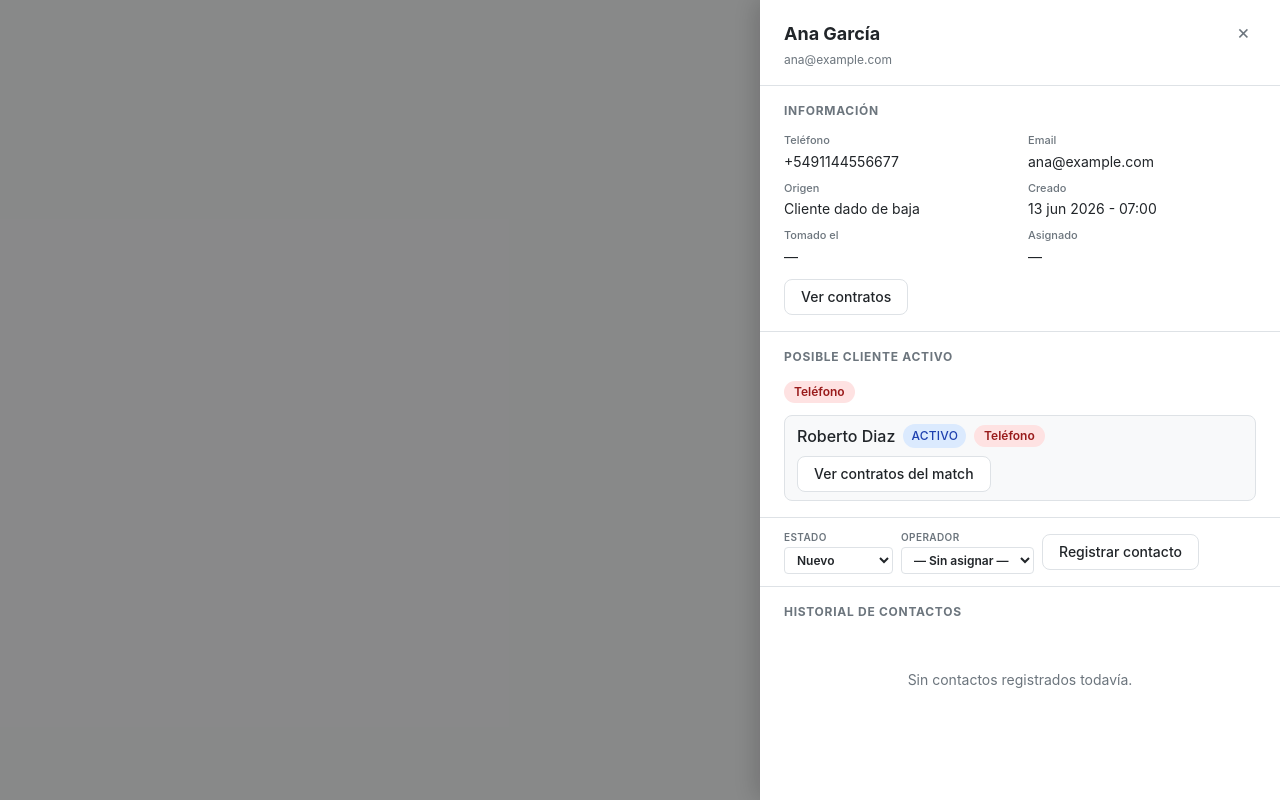
Test case: LeadDetailDrawer — possible active match section (S13a/S13b) › MS6 — the lead's own "Ver contratos" button is unaffected by an active match section
Click the button "Ver contratos" at (846, 296), box [784,278,908,314]
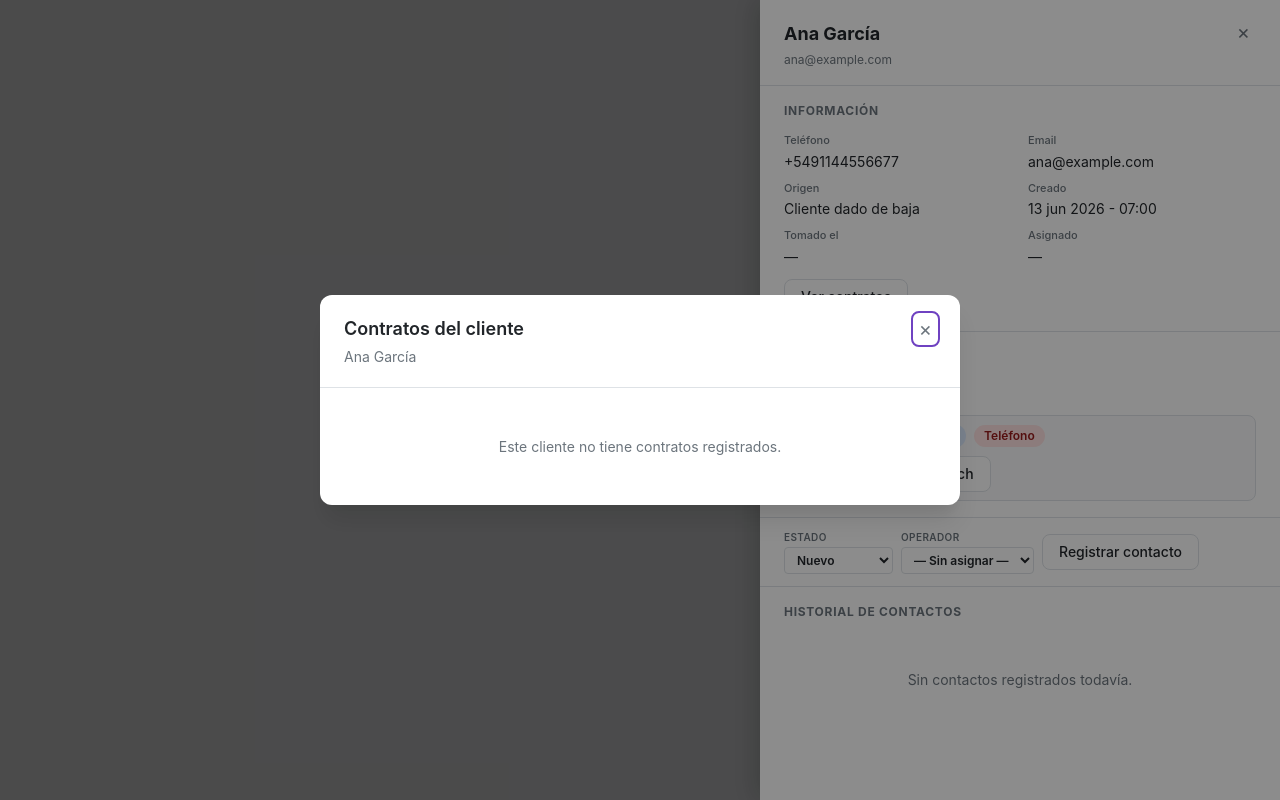
Now the text "Ana García" is shown, box [344,348,416,365]
